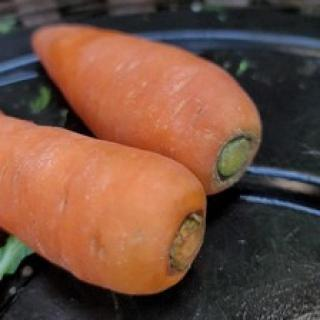carrot: (19, 15, 273, 198), (0, 107, 212, 295)
